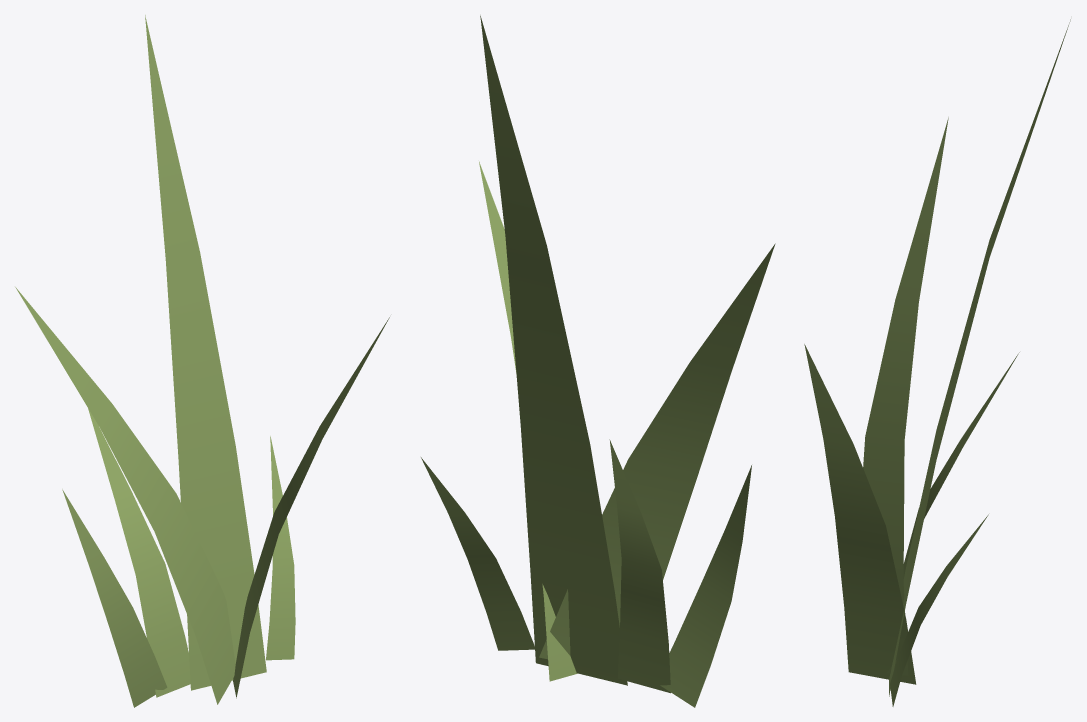
Rendered from SM_GrassClump_01.fbx.
3 renders of one model, left to right at view 1: azimuth 30°, elevation 25°; view 2: azimuth 150°, elevation 25°; view 3: azimuth 270°, elevation 25°, orthographic. The views are drawn at different scales.
Parts seen in each view (by area): view 1: SM_GrassClump_01; view 2: SM_GrassClump_01; view 3: SM_GrassClump_01.
Part boxes in pixels (left/top/right/bottom): SM_GrassClump_01: left=15, top=15, right=389, bottom=707; SM_GrassClump_01: left=421, top=15, right=775, bottom=707; SM_GrassClump_01: left=804, top=19, right=1070, bottom=706.
Bounding box in the file's own units: 13.45 × 25.29 × 9.19.
